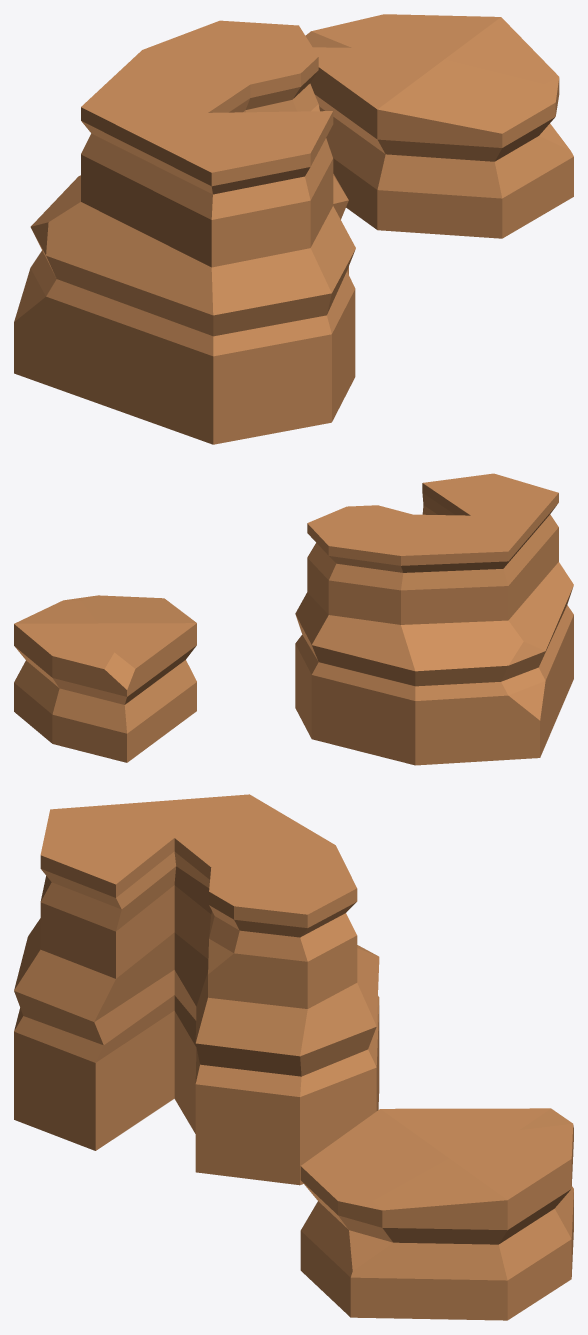
File: SandRocks_M5_LOD1.fbx
3 renders of one model, top to bottom at view 1: azimuth 30°, elevation 25°; view 2: azimuth 150°, elevation 25°; view 3: azimuth 270°, elevation 25°, orthographic. The views are drawn at different scales.
Visible parts, largest first — view 1: 28; view 2: 28; view 3: 28.
Part boxes in pixels (box(x1,y1,x2,y2)): 28: box(14, 14, 573, 444); 28: box(14, 473, 573, 765); 28: box(14, 794, 573, 1320).
Bounding box in the file's own units: 57.36 × 23.69 × 46.11.
